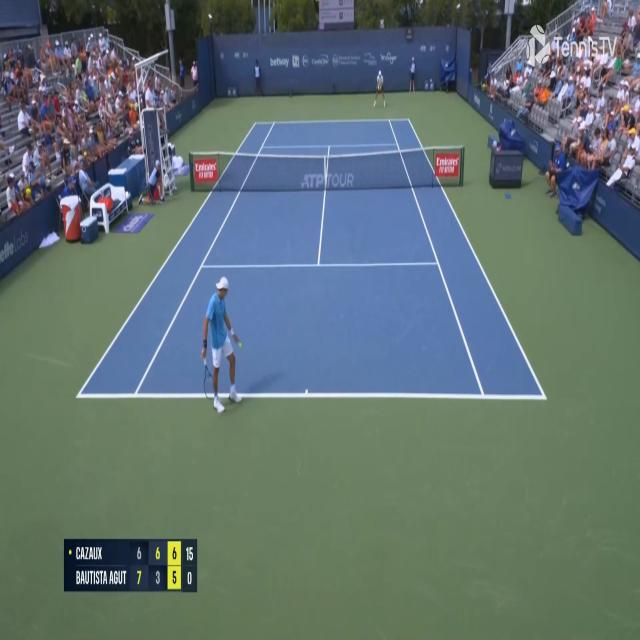tennis-player: (200, 275, 243, 417), (372, 68, 387, 109)
